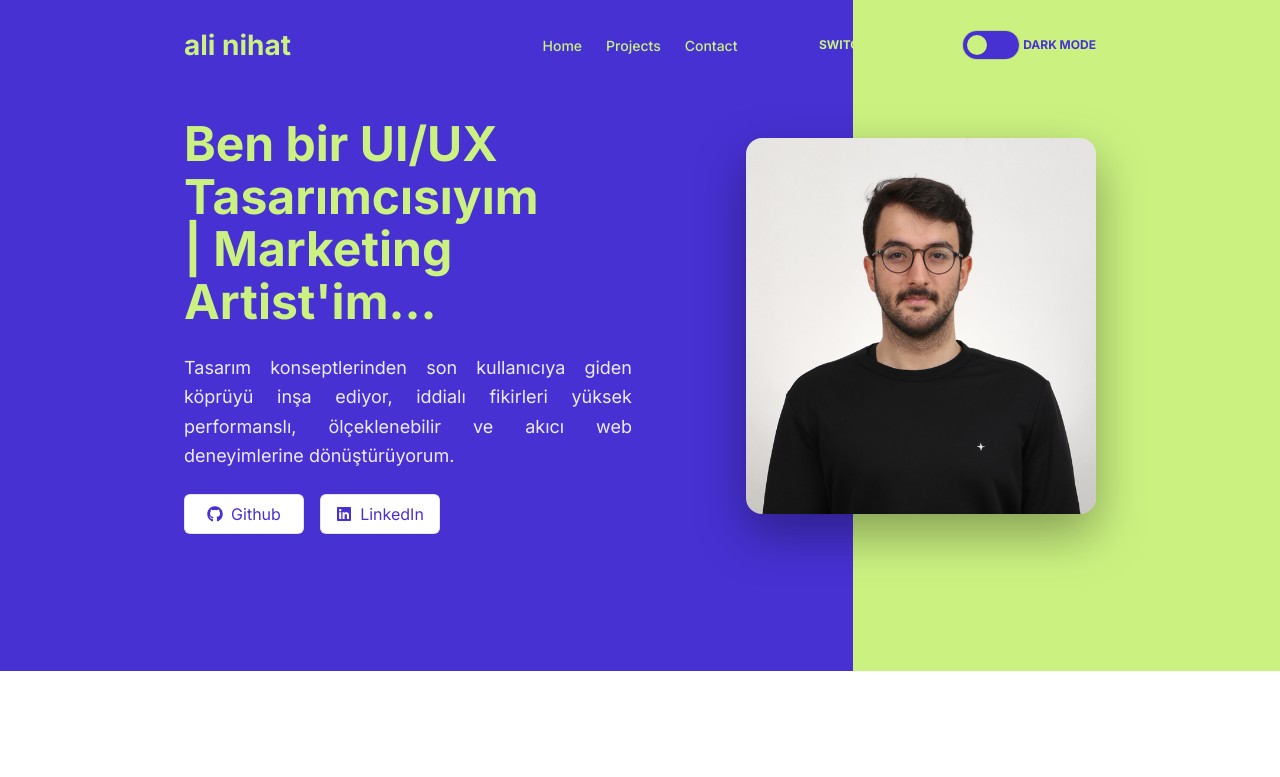
App – 23 parçalı stabil E2E › Dil değiştirilebilir ve geri alınabilir
Click the button "SWITCH TO ENGLISH" at (881,45), box [819,36,943,54]
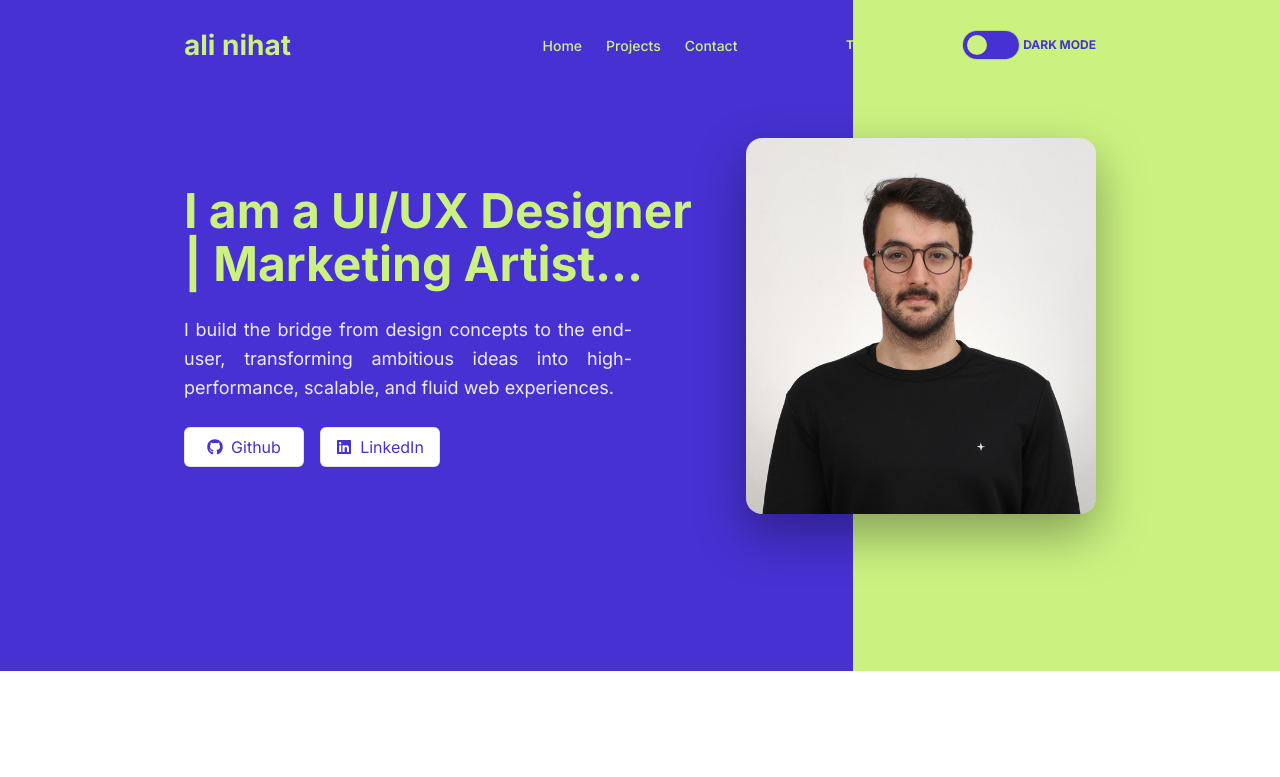
expect the button "TÜRKÇE'YE GEÇ" is shown: met
Click the button "TÜRKÇE'YE GEÇ" at (895,45), box [846,36,943,54]
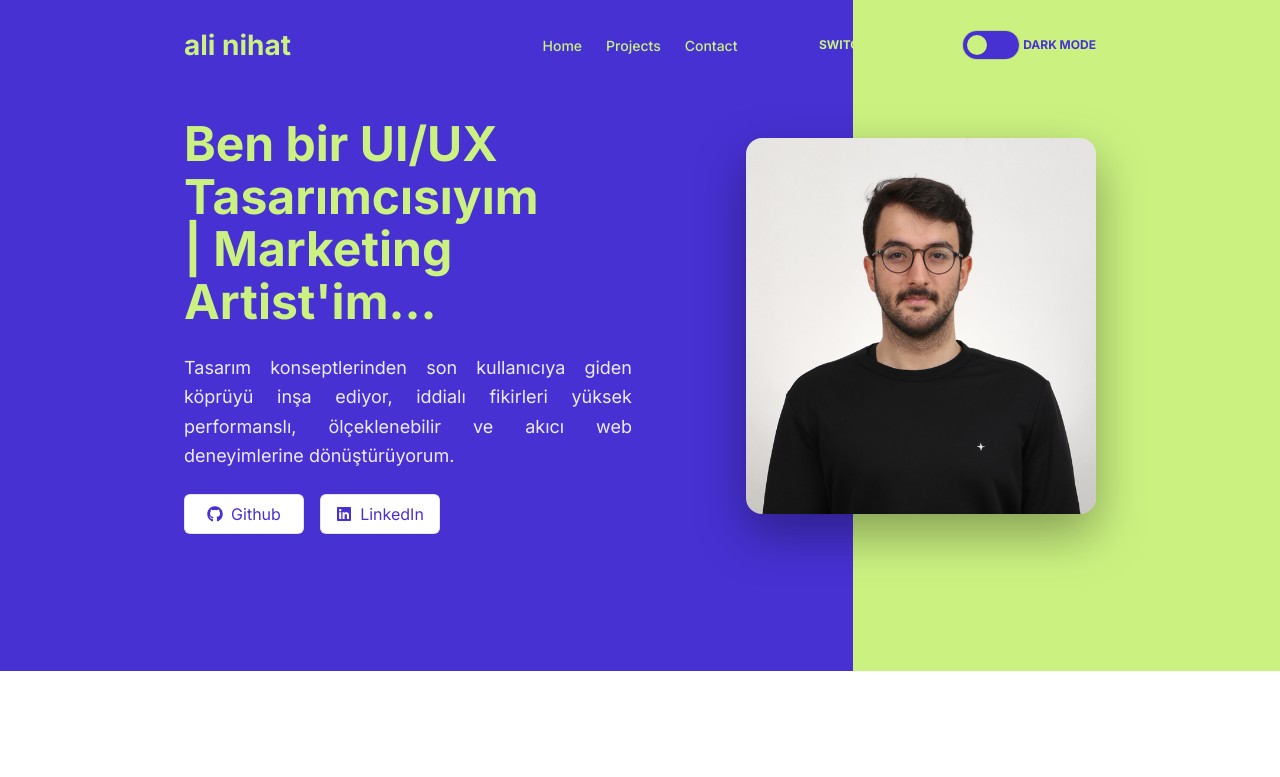
expect the button "SWITCH TO ENGLISH" is shown: met, box [819,36,943,54]
